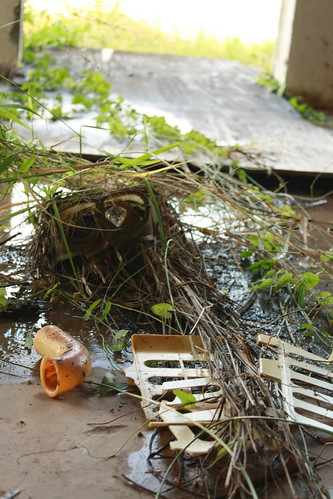trash: (5, 142, 333, 499)
